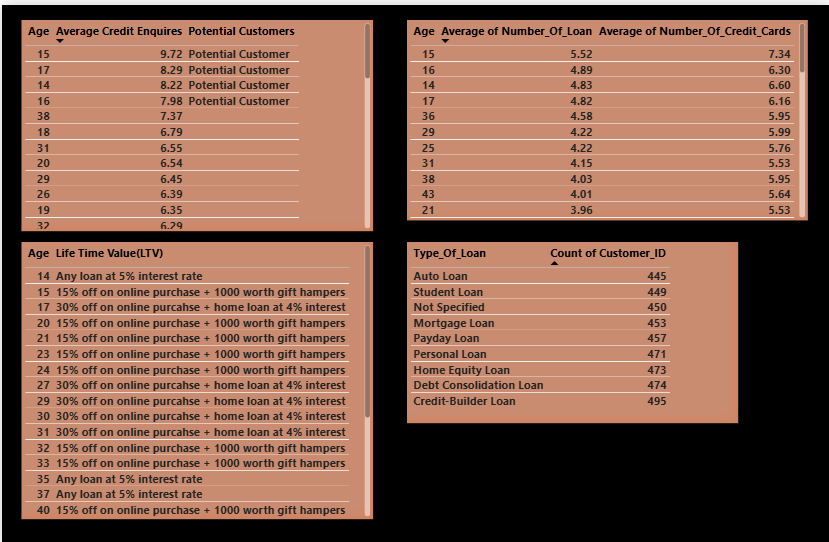

This screenshot's page, from the dashboard's own definition file:
{"tool":"powerbi","page":{"name":"Page 2","canvas":[1380,900],"ordinal":1},"visuals":[{"type":"tableEx","title":"Potential Customers Of Different Ages","fields":{"Values":["combined_df.Age","Table_for_Measures.Average Credit Enquires","Table_for_Measures.Potential Customers"]},"box":[32,26,586,352],"z":0},{"type":"tableEx","fields":{"Values":["combined_df.Age","Avg(combined_df.Number_Of_Loan)","Avg(combined_df.Number_Of_Credit_Cards)"]},"box":[674,26,668,334],"z":1000},{"type":"tableEx","fields":{"Values":["combined_df.Age","Table_for_Measures.Life Time Value(LTV)"]},"box":[32,394,586,462],"z":1001},{"type":"tableEx","fields":{"Values":["Loans.Type_Of_Loan","Loans.Customer_ID"]},"box":[674,394,552,302],"z":1002}]}

Visuals, with their boxes in screenshot pixels (x1, y1, x2, y2), scaled from the page's 1380x900 canvas onto the 829x542 screenshot:
"Potential Customers Of Different Ages" tableEx: <bbox>19, 16, 371, 228</bbox>
tableEx - combined_df.Age x Avg(combined_df.Number_Of_Loan): <bbox>405, 16, 806, 217</bbox>
tableEx - combined_df.Age x Table_for_Measures.Life Time Value(LTV): <bbox>19, 237, 371, 516</bbox>
tableEx - Loans.Type_Of_Loan x Loans.Customer_ID: <bbox>405, 237, 736, 419</bbox>
